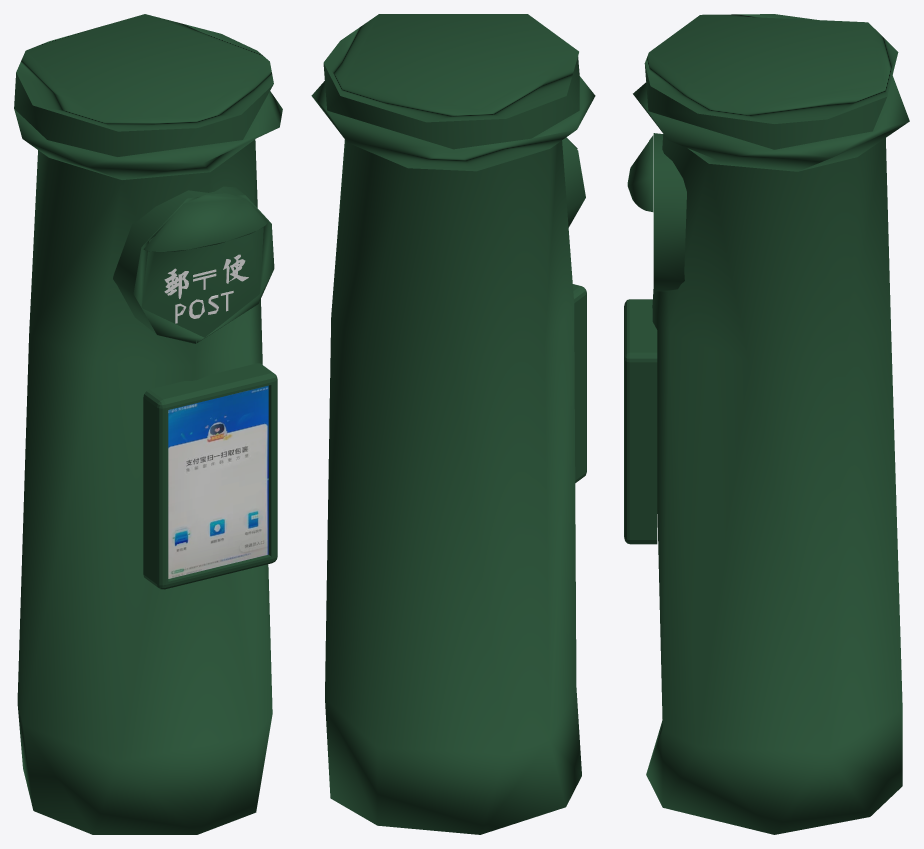
Rendered from Mailbox.glb.
3 views of the same model, side by side, from view 1: azimuth 30°, elevation 25°; view 2: azimuth 150°, elevation 25°; view 3: azimuth 270°, elevation 25° (orthographic).
Visible parts, largest first — view 1: 3d66-Editable_mesh-23553355-040, 3d66diban-039, 3d66-Editable_mesh-23553355-078; view 2: 3d66-Editable_mesh-23553355-040; view 3: 3d66-Editable_mesh-23553355-040.
Boxes of the visible parts, x1=… form: 3d66-Editable_mesh-23553355-040: x1=14, y1=14, x2=282, y2=834; 3d66diban-039: x1=168, y1=385, x2=268, y2=578; 3d66-Editable_mesh-23553355-078: x1=164, y1=254, x2=248, y2=323; 3d66-Editable_mesh-23553355-040: x1=311, y1=14, x2=595, y2=834; 3d66-Editable_mesh-23553355-040: x1=624, y1=14, x2=909, y2=834.
Size of the model in its own units: 0.4575 by 1.33 by 0.4756.
3 materials, 1 textured.
